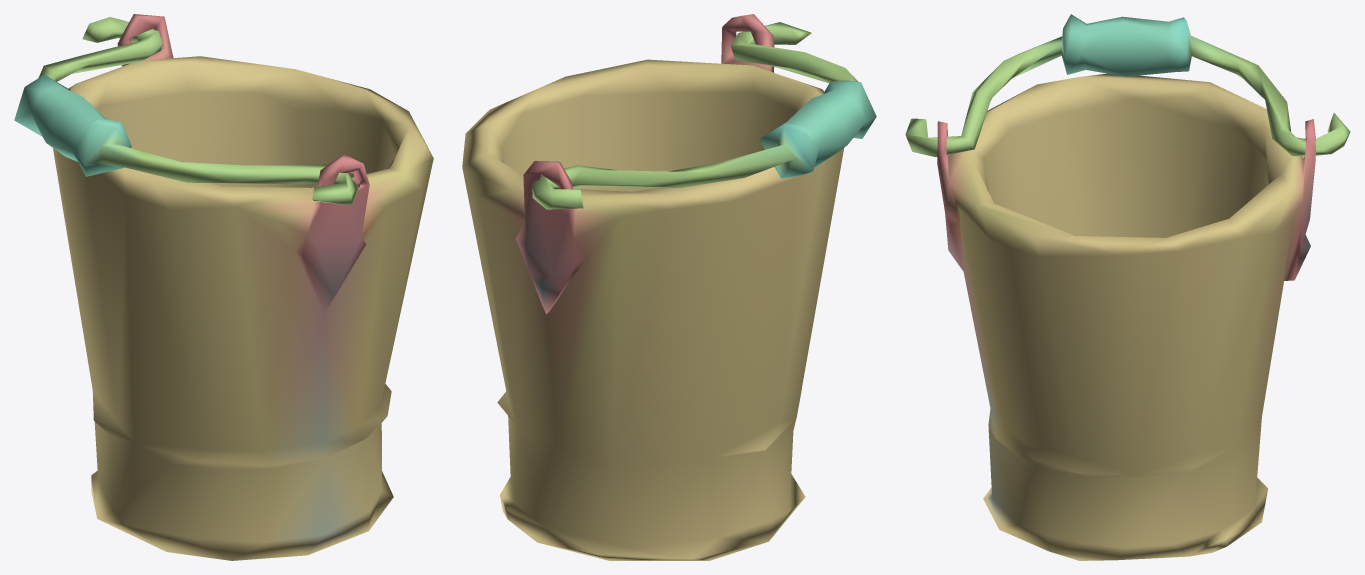
The model's file is Halloween_MetalBucket.fbx.
3 renders of one model, left to right at view 1: azimuth 30°, elevation 25°; view 2: azimuth 150°, elevation 25°; view 3: azimuth 270°, elevation 25°, orthographic. The views are drawn at different scales.
Parts seen in each view (by area): view 1: Halloween_MetalBucket; view 2: Halloween_MetalBucket; view 3: Halloween_MetalBucket.
Part boxes in pixels (bbox=[...]): Halloween_MetalBucket: bbox=[14, 14, 433, 560]; Halloween_MetalBucket: bbox=[462, 14, 876, 560]; Halloween_MetalBucket: bbox=[905, 14, 1350, 560].
Bounding box in the file's own units: 46.9 × 55.21 × 53.97.
